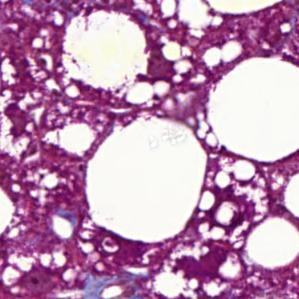steatosis: (86, 119, 206, 243)
